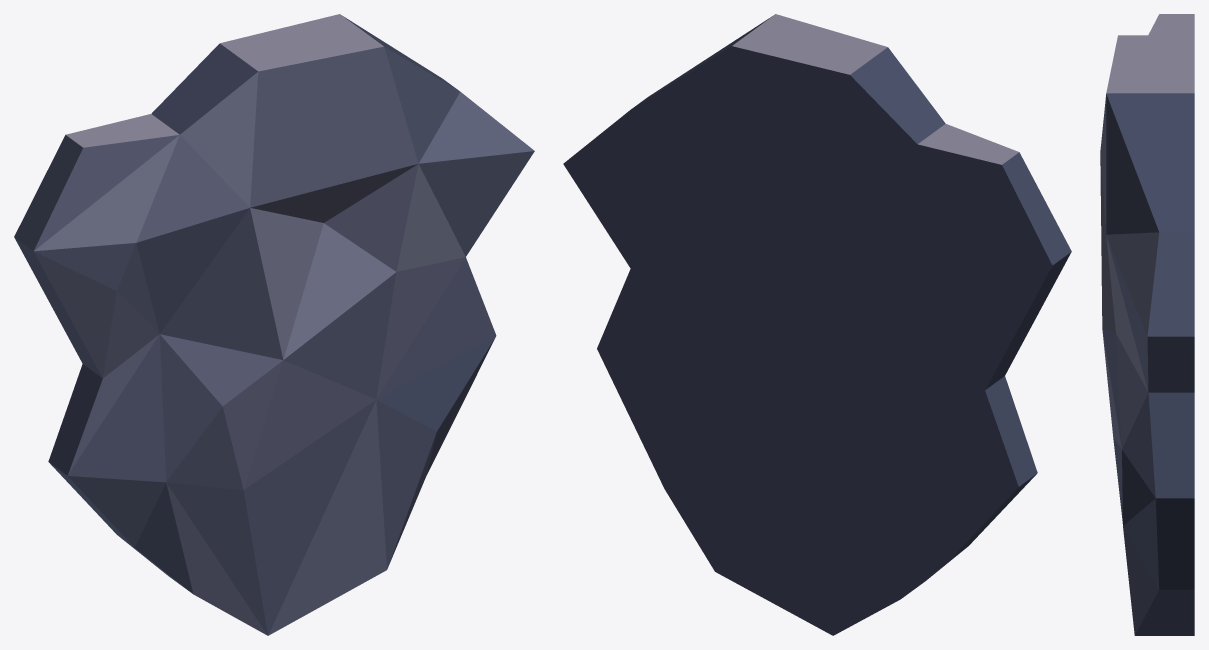
The model's file is support-low-spur.glb.
3 renders of one model, left to right at view 1: azimuth 30°, elevation 25°; view 2: azimuth 150°, elevation 25°; view 3: azimuth 270°, elevation 25°, orthographic.
Parts seen in each view (by area): view 1: Low Spur; view 2: Low Spur; view 3: Low Spur.
Part boxes in pixels (box(x1,y1,x2,y2)): Low Spur: box(14, 14, 534, 635); Low Spur: box(563, 14, 1071, 635); Low Spur: box(1100, 14, 1194, 635).
Size of the model in its own units: 29 by 32 by 4.8.
